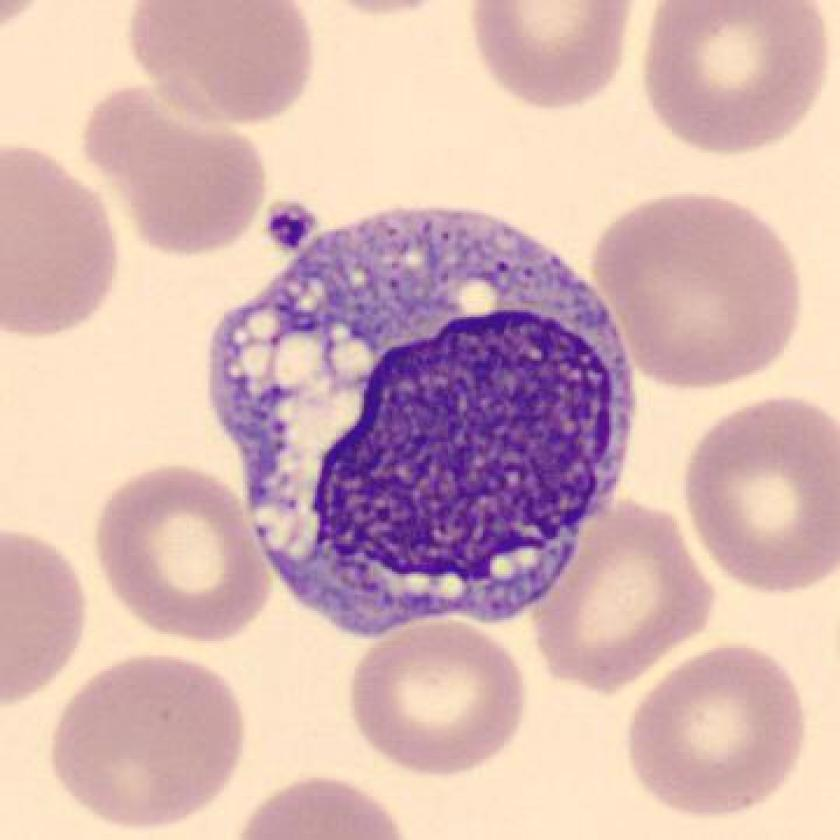monocyte: (190, 189, 654, 647)
